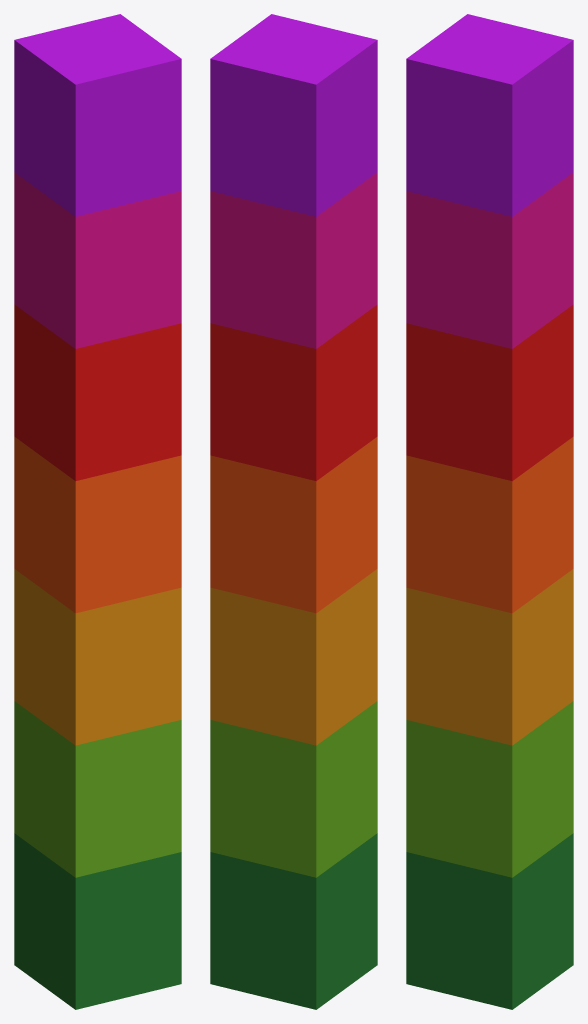
File: over.FBX
3 views of the same model, side by side, from view 1: azimuth 30°, elevation 25°; view 2: azimuth 150°, elevation 25°; view 3: azimuth 330°, elevation 25° (orthographic).
Parts seen in each view (by area): view 1: over; view 2: over; view 3: over.
Part boxes in pixels (x1,y1,x2,y2): over: [14, 14, 181, 1009]; over: [210, 14, 377, 1009]; over: [406, 14, 573, 1009].
Size of the model in its own units: 3 by 25 by 3.
